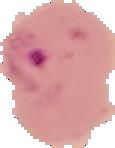parasitized: (3, 28, 76, 108)
